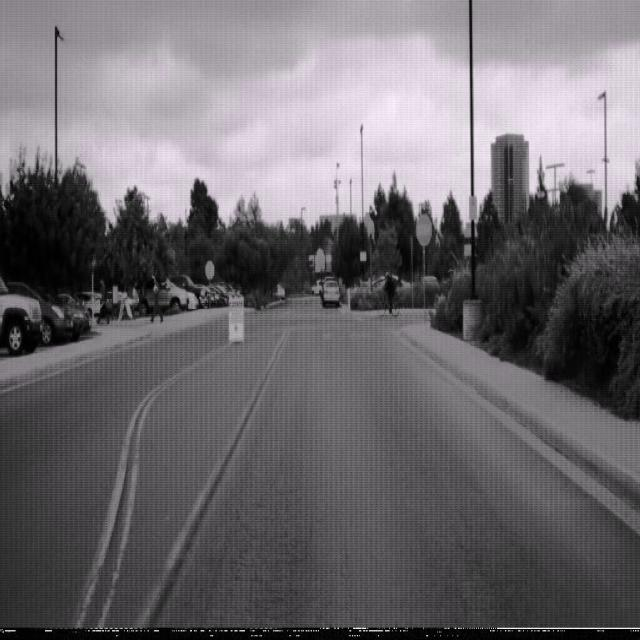stop_sign: (416, 214, 432, 246)
